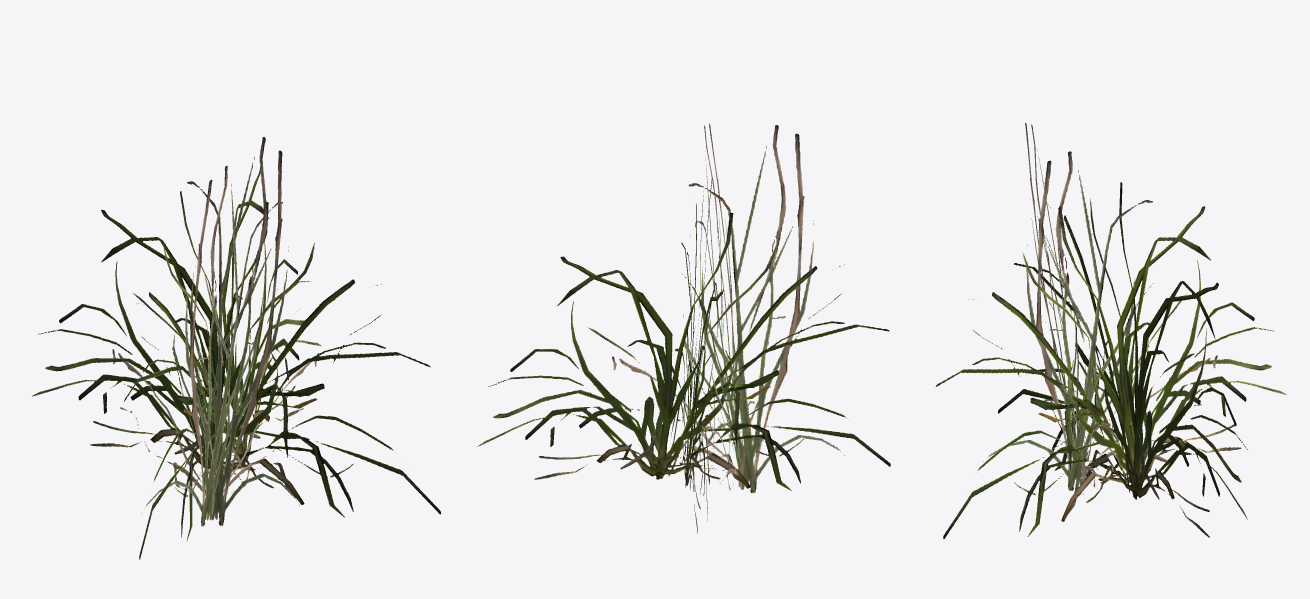
3 renders of one model, left to right at view 1: azimuth 30°, elevation 25°; view 2: azimuth 150°, elevation 25°; view 3: azimuth 270°, elevation 25°, orthographic. The views are drawn at different scales.
Visible parts, largest first — view 1: mat; view 2: mat; view 3: mat.
Boxes of the visible parts, x1=… form: mat: x1=32, y1=137, x2=440, y2=559; mat: x1=477, y1=123, x2=890, y2=533; mat: x1=936, y1=123, x2=1286, y2=538.
Size of the model in its own units: 0.6371 by 0.8075 by 0.6371.
Materials: 1 (1 with a texture image).
